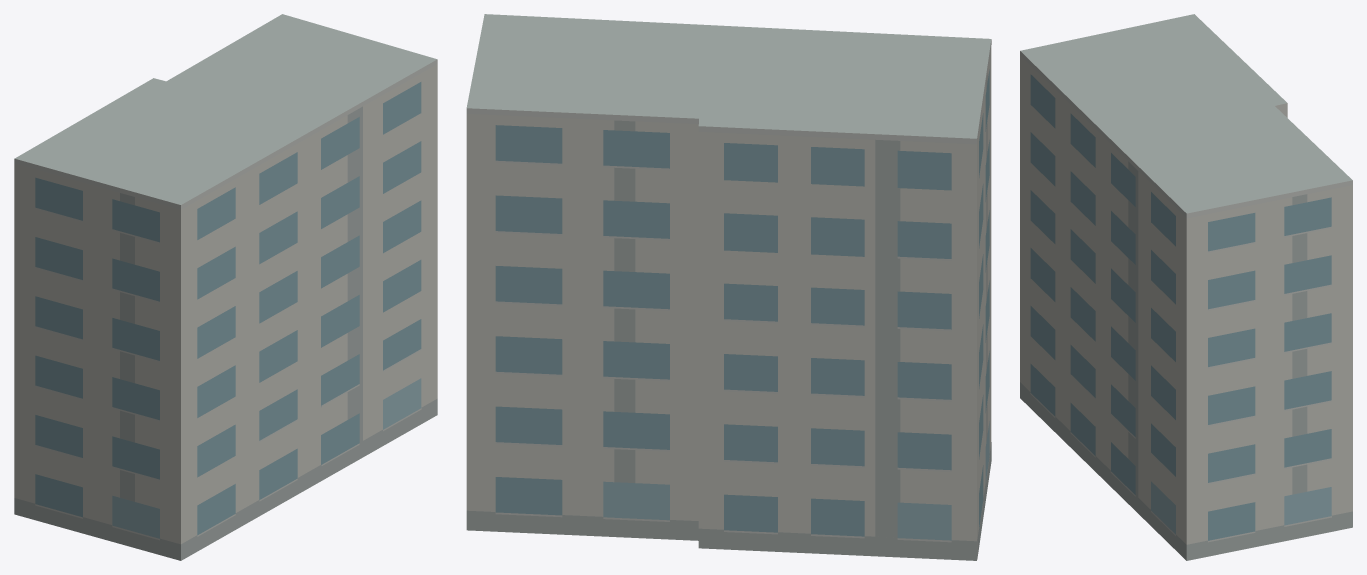
Rendered from survey-upis-32998201.glb.
The picture shows the model from 3 angles, left to right: view 1: azimuth 30°, elevation 25°; view 2: azimuth 150°, elevation 25°; view 3: azimuth 270°, elevation 25°; orthographic projection. The views are drawn at different scales.
Parts seen in each view (by area): view 1: survey-upis-32998201.tmp; view 2: survey-upis-32998201.tmp; view 3: survey-upis-32998201.tmp.
Part boxes in pixels (box(x1,y1,x2,y2)): survey-upis-32998201.tmp: box(14, 14, 437, 560); survey-upis-32998201.tmp: box(466, 14, 991, 560); survey-upis-32998201.tmp: box(1020, 14, 1352, 560).
Bounding box in the file's own units: 22.57 × 18.3 × 15.9.
